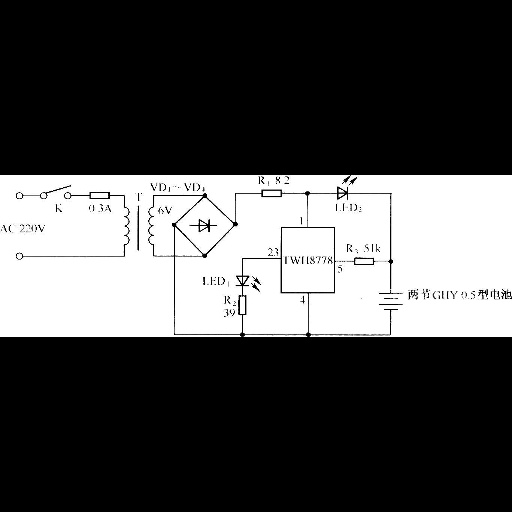battery: (374, 289, 406, 315)
firstresistance: (85, 189, 111, 201), (351, 257, 376, 269), (259, 187, 284, 199), (237, 293, 248, 318)
secondled: (334, 175, 362, 201), (234, 271, 265, 291)
transformer: (120, 202, 155, 252)
